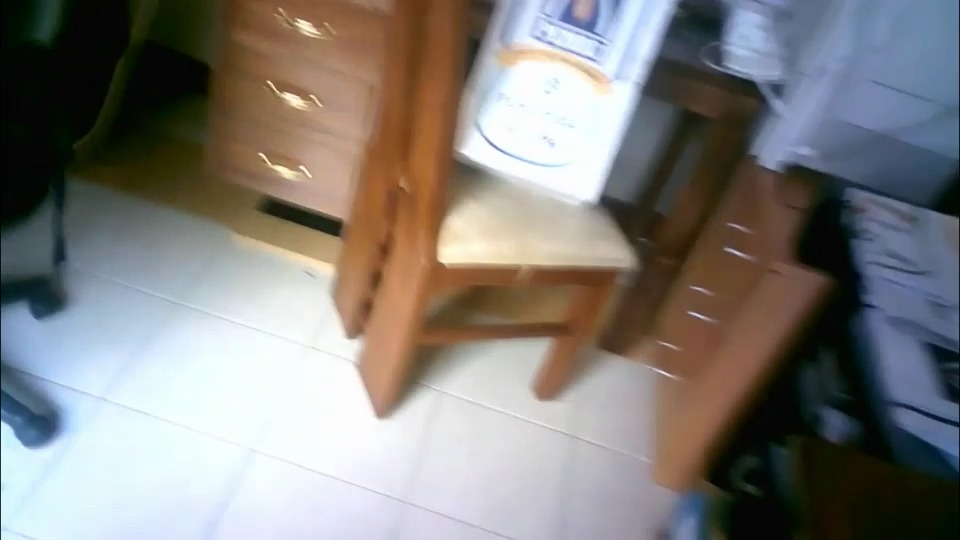wheat_flour_blue_label: (457, 3, 680, 200)
